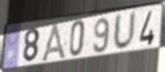0: (69, 19, 88, 59)
4: (138, 10, 156, 47)
8: (23, 28, 41, 64)
9: (92, 16, 111, 55)
A: (39, 21, 68, 62)
U: (112, 10, 138, 53)
